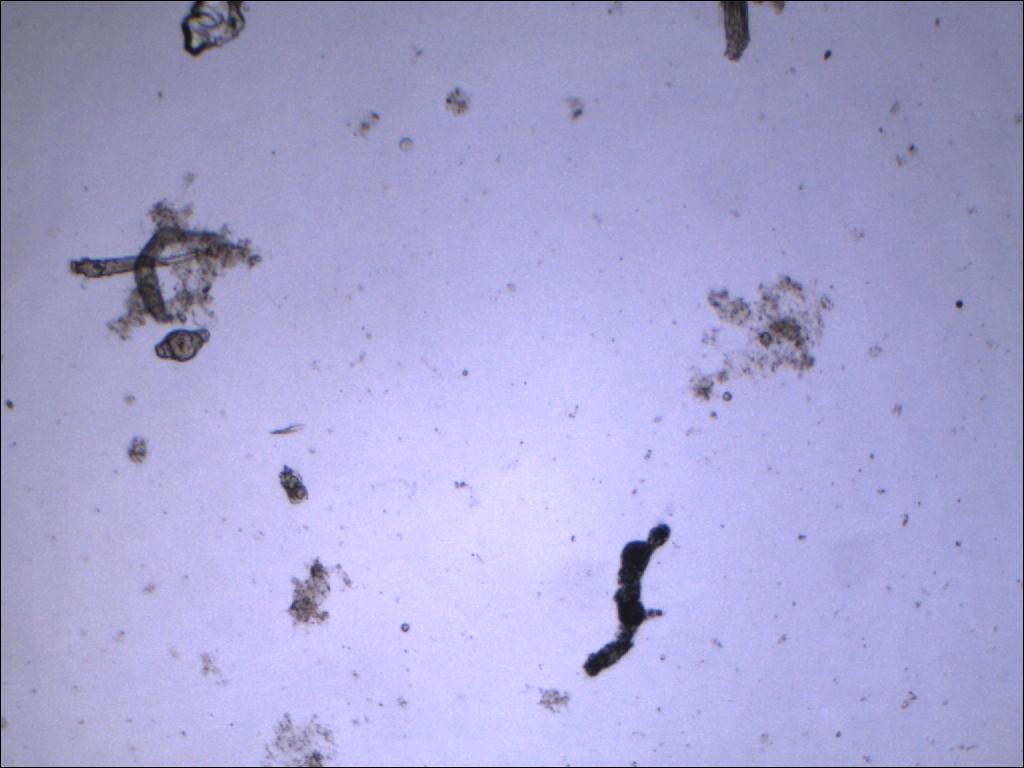amoeba: (579, 519, 680, 682)
